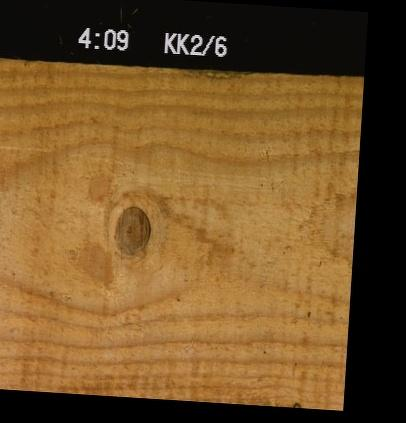dry_knot: (112, 204, 150, 256)
